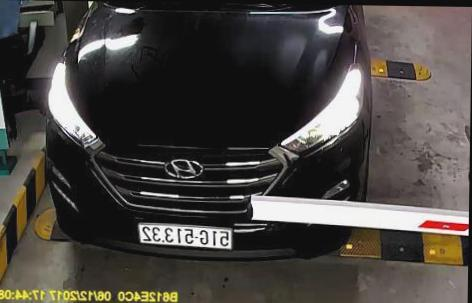License_Plate: (135, 222, 234, 254)
